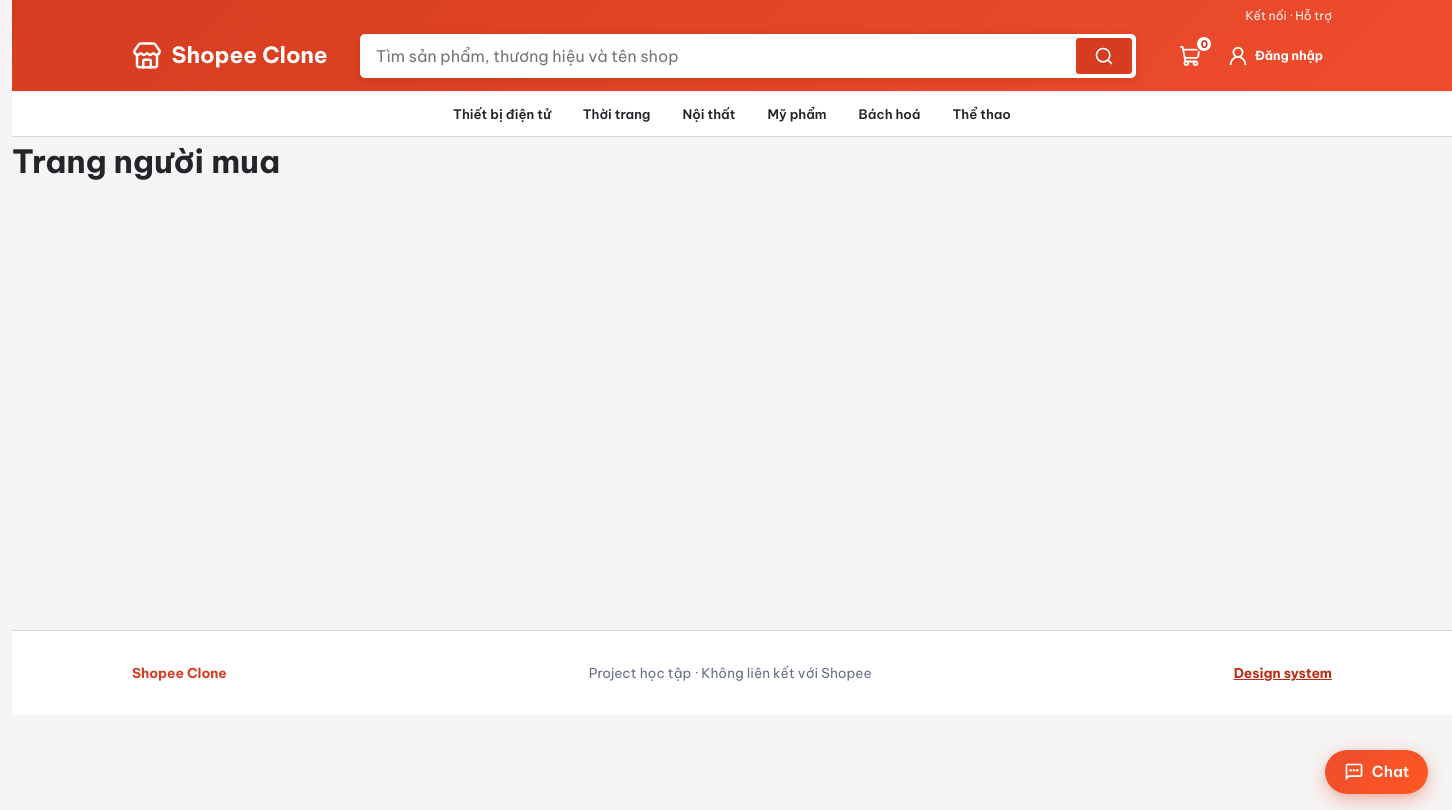
StorefrontShell › loads search suggestions after 500ms of idle typing
Step 1. Type "quần jea" into the search field named "Tìm kiếm sản phẩm" → (718, 56), box [362, 36, 1074, 76]
Wait 500 ms
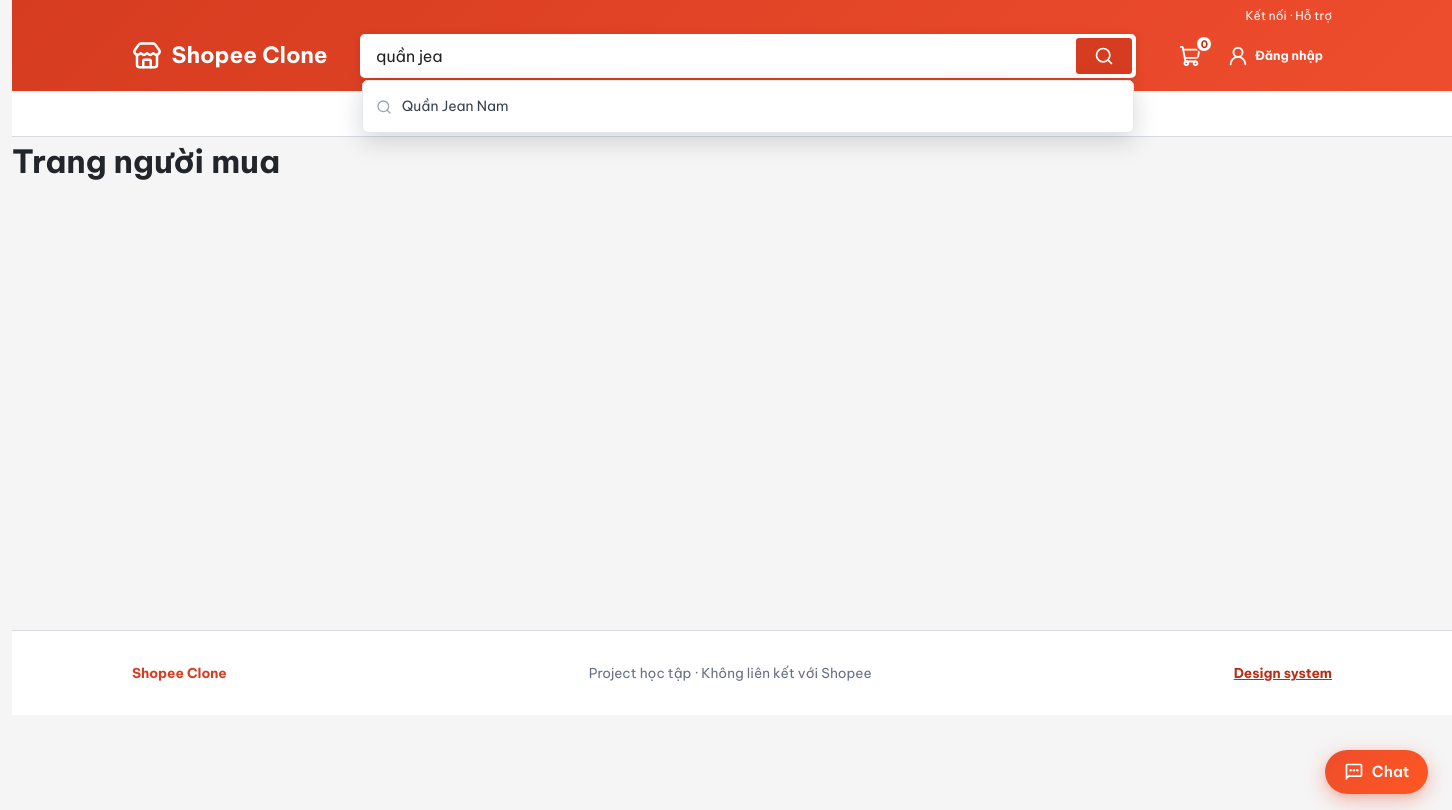
Result: the option reads "Quần Jean Nam" at [376, 97, 508, 115]
